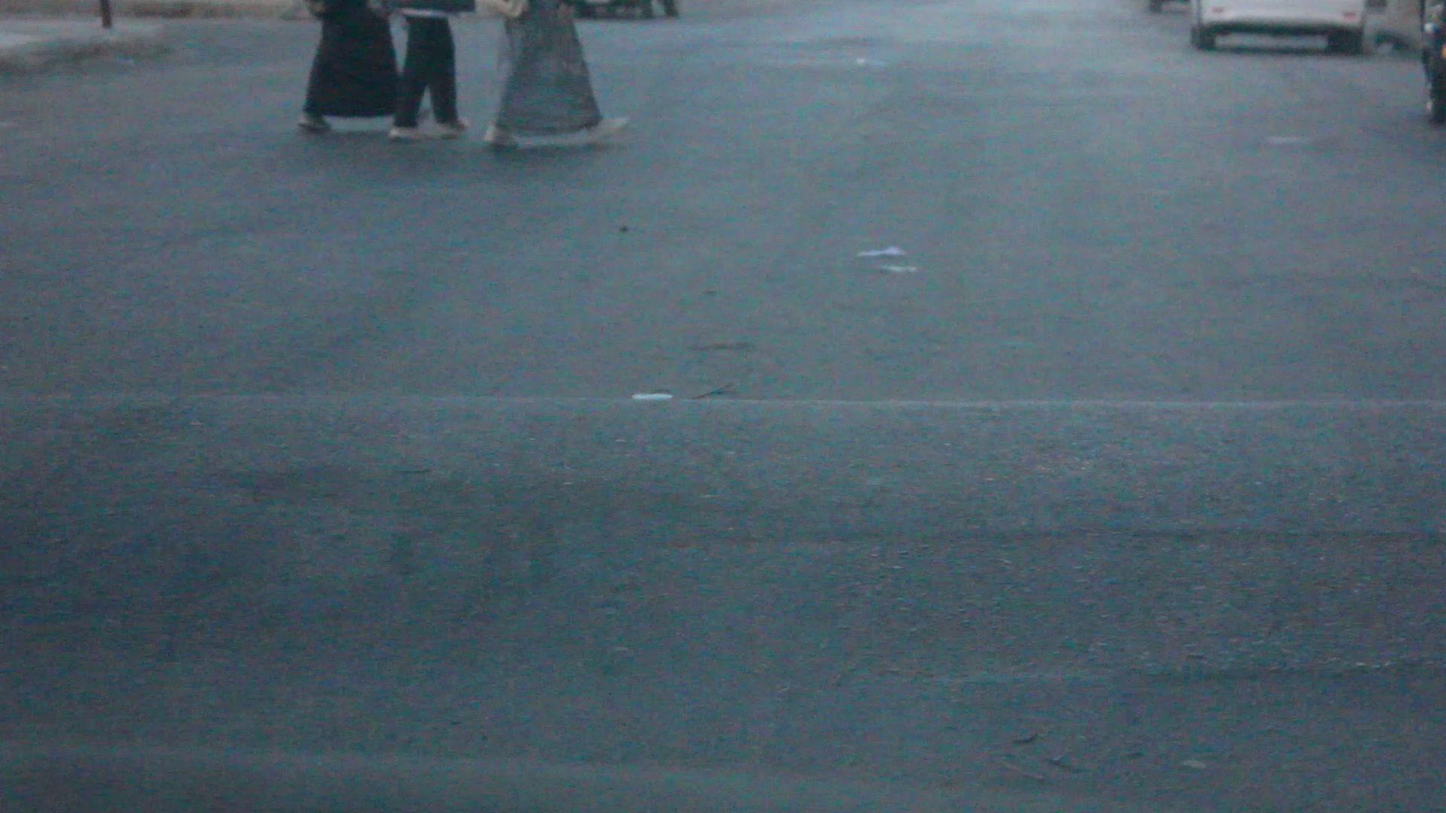Bump: (6, 395, 1446, 668)
